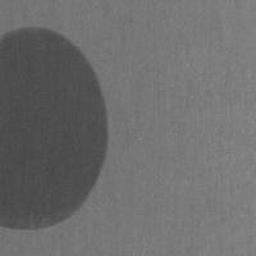Oil spot: (0, 24, 110, 232)
